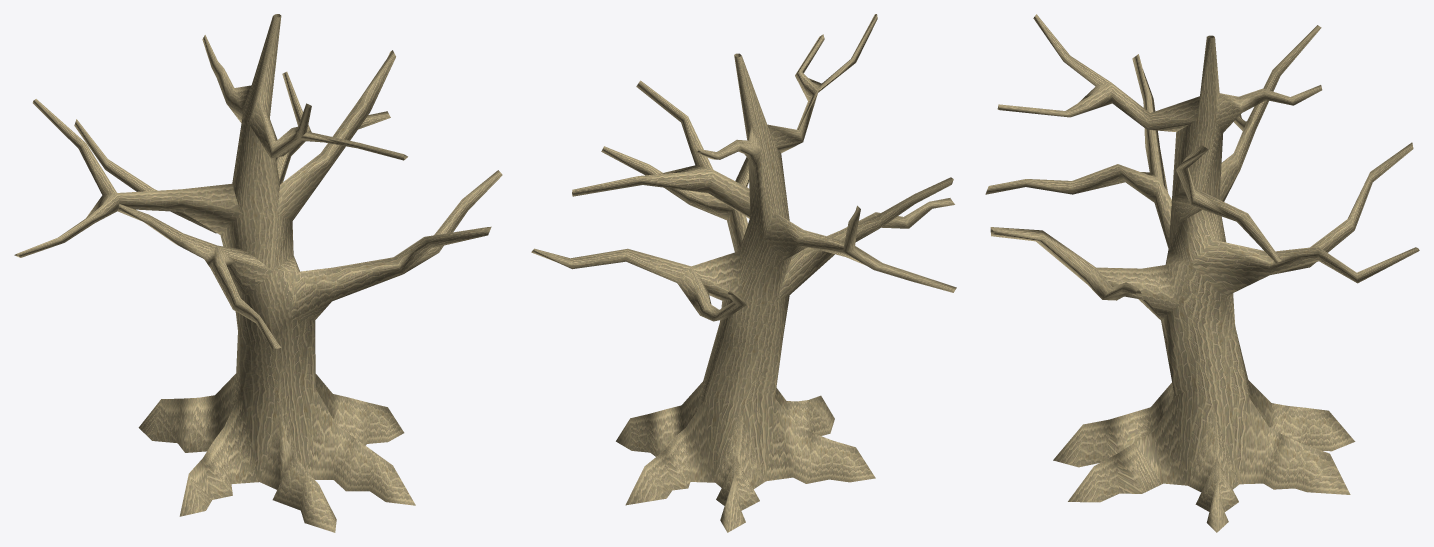
File: INST_HTOWN_TREEB_LOD2.fbx
The picture shows the model from 3 angles, left to right: view 1: azimuth 30°, elevation 25°; view 2: azimuth 150°, elevation 25°; view 3: azimuth 270°, elevation 25°; orthographic projection. The views are drawn at different scales.
Parts seen in each view (by area): view 1: INST_HTOWN_TREEB_LOD2; view 2: INST_HTOWN_TREEB_LOD2; view 3: INST_HTOWN_TREEB_LOD2.
Boxes of the visible parts, x1,y1,x2,y2 form: INST_HTOWN_TREEB_LOD2: [14, 14, 502, 532]; INST_HTOWN_TREEB_LOD2: [531, 14, 956, 532]; INST_HTOWN_TREEB_LOD2: [985, 14, 1419, 532].
Bounding box in the file's own units: 67397 × 66638 × 60305.
Materials: 5 (5 with a texture image).
